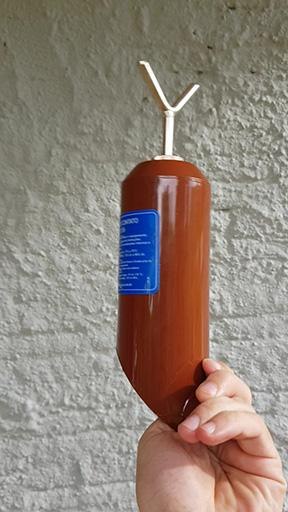Detector_Tensao_Contato: (115, 60, 212, 435)
